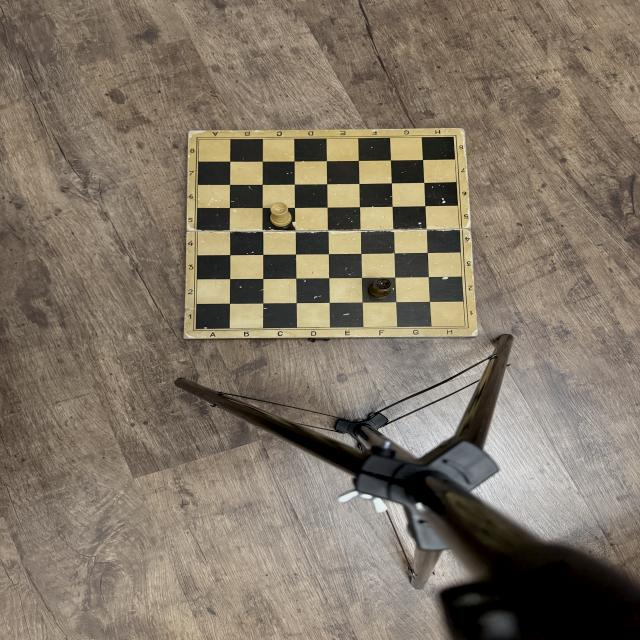black-rook: (368, 278, 392, 298)
white-rook: (270, 202, 292, 228)
